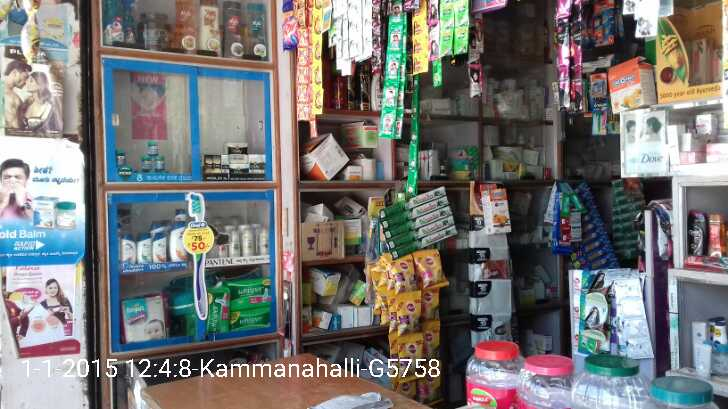beauty: (168, 222, 191, 261), (135, 229, 152, 262), (117, 233, 135, 264), (226, 141, 250, 164), (152, 232, 167, 263), (242, 225, 256, 256), (227, 163, 250, 181), (250, 156, 266, 181), (257, 226, 270, 255), (229, 228, 241, 256), (204, 153, 214, 181), (219, 153, 229, 180), (214, 157, 221, 182)
pharmacy: (121, 290, 171, 341), (226, 276, 270, 309), (208, 285, 230, 331), (234, 308, 273, 330), (114, 148, 127, 168), (153, 155, 168, 171), (147, 140, 159, 155), (143, 155, 152, 173)
